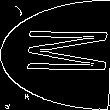M_E: (4, 32, 106, 78)
